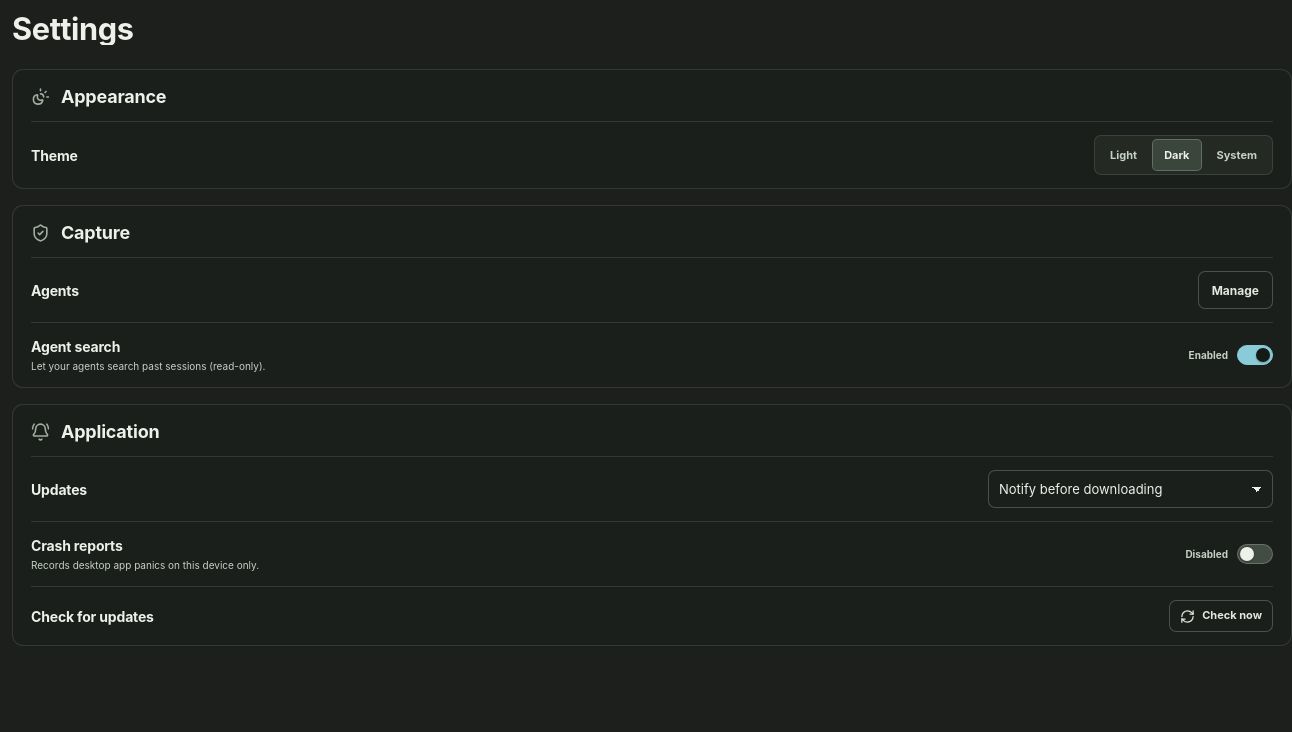
Test: settings appearance preference › rereads a concurrent-write winner instead of restoring the old Dark choice
Check: the button "Dark" is shown, box top-left (1152, 139), bottom-right (1202, 171)
What coordinates should you click on to do the following:
click the button "Light"
I would click on:
 (1124, 155)
Its box is top-left (1098, 139), bottom-right (1149, 171).
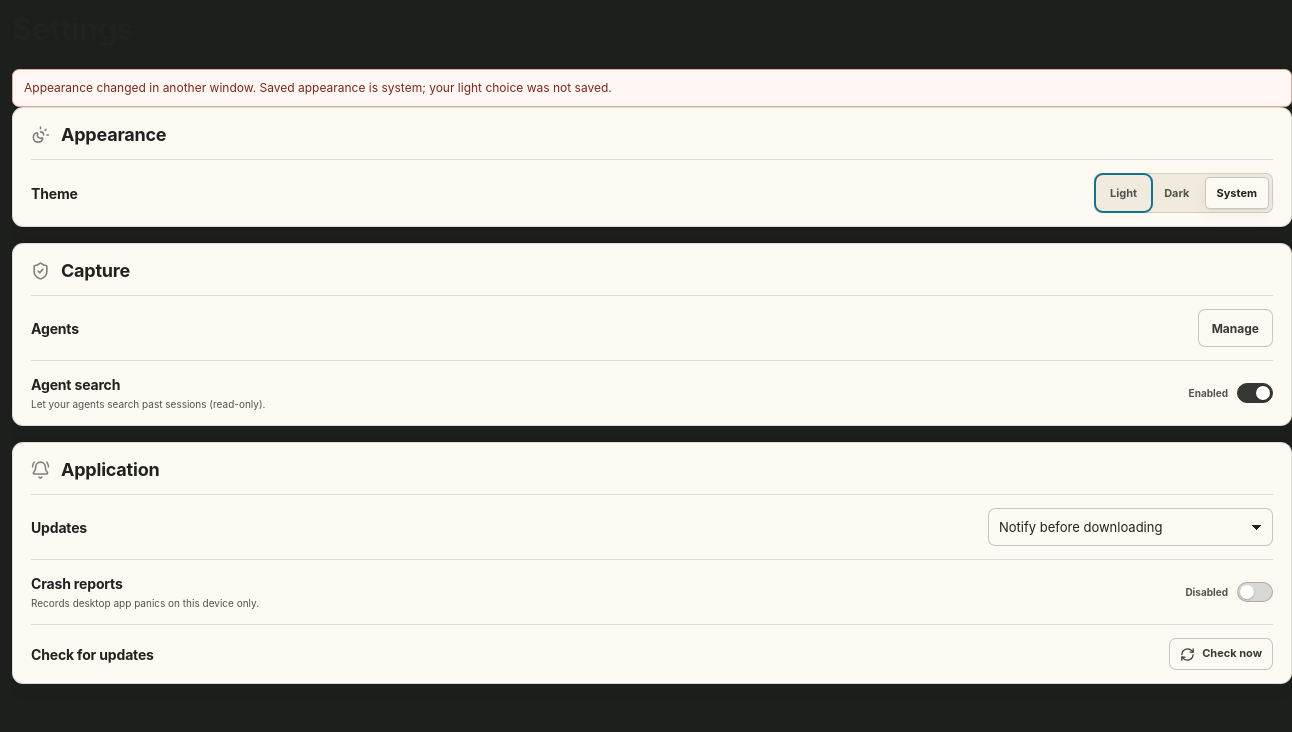
Check: the button "System" is shown, box top-left (1204, 177), bottom-right (1269, 209)
Check: the message is shown, box top-left (12, 69), bottom-right (1291, 107)
Check: the message shows "Saved appearance is system; your light choice was not saved.", box top-left (24, 80), bottom-right (612, 95)
